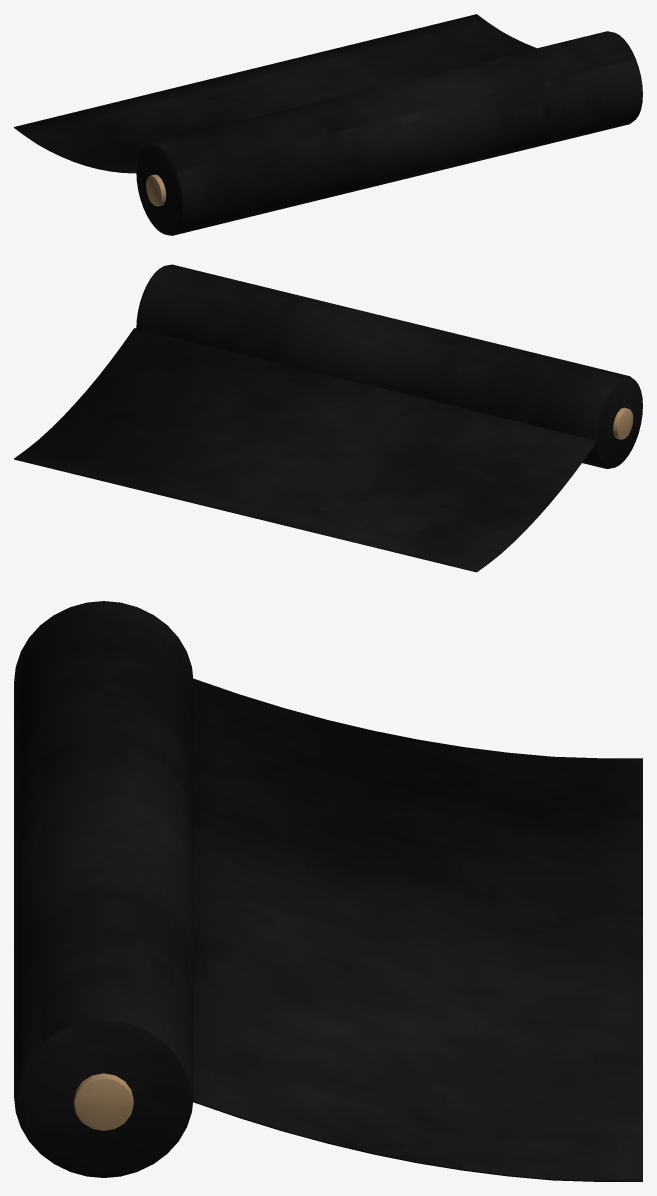
File: FUN-LAS-003.glb
The picture shows the model from 3 angles, top to bottom: view 1: azimuth 30°, elevation 25°; view 2: azimuth 150°, elevation 25°; view 3: azimuth 270°, elevation 25°; orthographic projection. The views are drawn at different scales.
Visible parts, largest first — view 1: FUN-LAS-003_rolo, FUN-LAS-003_aba, FUN-LAS-003_tubo; view 2: FUN-LAS-003_aba, FUN-LAS-003_rolo, FUN-LAS-003_tubo; view 3: FUN-LAS-003_aba, FUN-LAS-003_rolo, FUN-LAS-003_tubo.
Boxes of the visible parts, x1,y1,x2,y2 form: FUN-LAS-003_rolo: (136, 31, 642, 235); FUN-LAS-003_aba: (14, 14, 536, 173); FUN-LAS-003_tubo: (146, 174, 166, 206); FUN-LAS-003_aba: (14, 328, 596, 572); FUN-LAS-003_rolo: (136, 264, 642, 468); FUN-LAS-003_tubo: (613, 407, 633, 439); FUN-LAS-003_aba: (193, 679, 642, 1181); FUN-LAS-003_rolo: (14, 601, 193, 1177); FUN-LAS-003_tubo: (74, 1073, 133, 1130).
Size of the model in its own units: 1.02 by 0.18 by 0.63.
2 materials, 2 textured.
